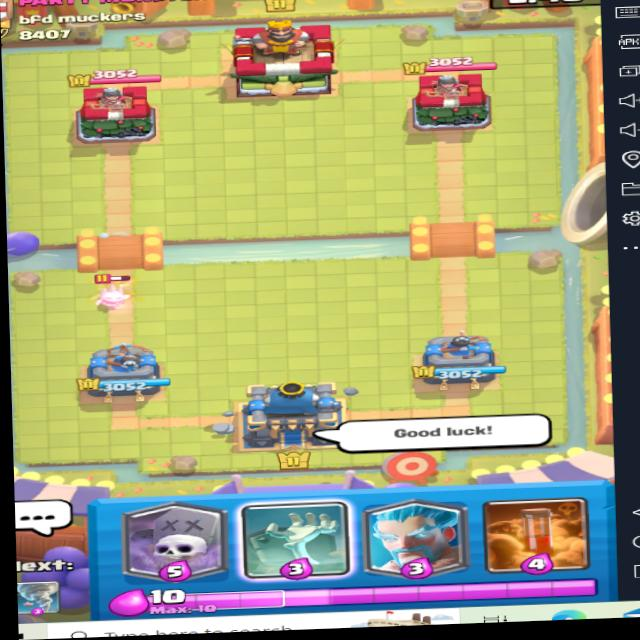ice-spirit: (86, 268, 142, 318)
